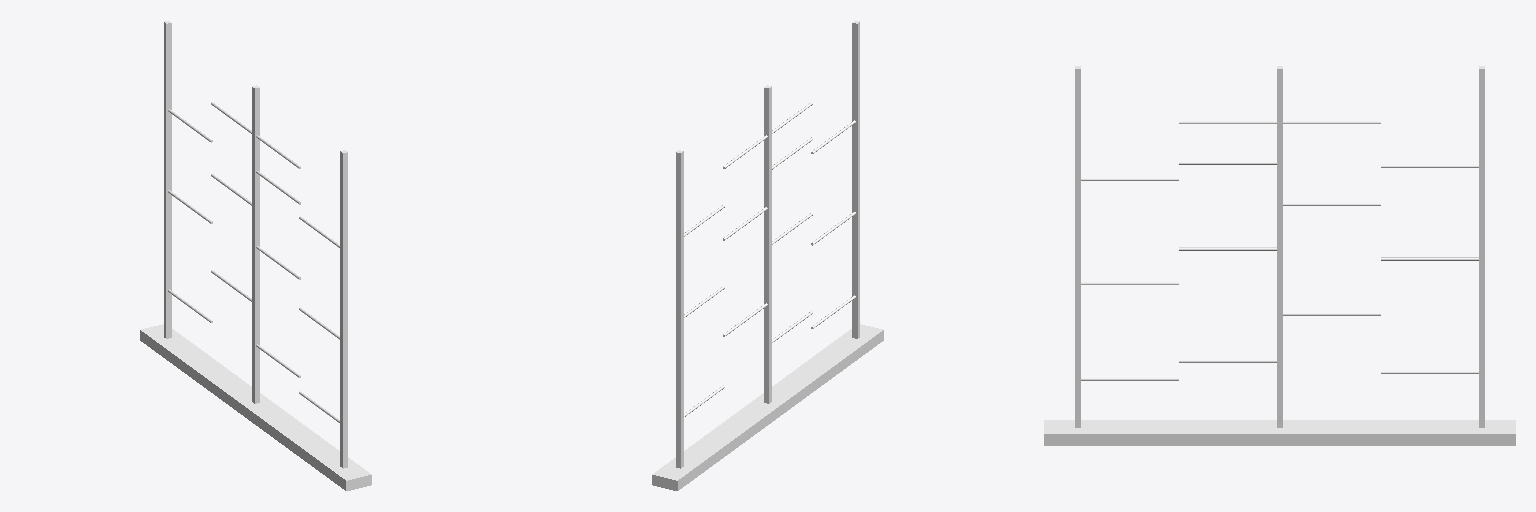
URDF robot description (test_tree):
<?xml version="1.0" ?>
<robot name="test_tree">
<!--  <link concave="yes" name="baseLink">-->
  <link concave="no" name="baseLink">
    <inertial>
      <origin rpy="0 0 0" xyz="0 0 0"/>
       <mass value=".0"/>
       <inertia ixx="0" ixy="0" ixz="0" iyy="0" iyz="0" izz="0"/>
    </inertial>
    <visual>
      <origin rpy="0 0 0" xyz="0 0 0"/>
      <geometry>
				<mesh filename="trellis-model.obj" scale="1 1 1"/>
      </geometry>
       <material name="white">
        <color rgba="1 1 1 1"/>
      </material>
    </visual>
    <collision concave="no">
<!--    <collision concave="yes">-->
      <origin rpy="0 0 0" xyz="0 0 0"/>
     <geometry>
				<mesh filename="trellis-model.obj" scale="1 1 1"/>
      </geometry>
    </collision>
  </link>
</robot>

--- Render facts (derived) ---
3 views of the same robot in one strip: view 1: azimuth 30°, elevation 25°; view 2: azimuth 150°, elevation 25°; view 3: azimuth 270°, elevation 25° (orthographic).
Robot: test_tree — 1 links, 0 joints (none); root link baseLink; default pose: every joint at zero.
Visible links, largest first — view 1: baseLink; view 2: baseLink; view 3: baseLink.
Link boxes in pixels (box(x1,y1,x2,y2)): baseLink: box(140, 21, 371, 490); baseLink: box(652, 21, 883, 490); baseLink: box(1044, 66, 1515, 445).
Size in the robot's own frame: 0.1 by 1.4 by 1.22 metres.
Meshes: 1 distinct files referenced, 1 mesh visuals loaded (1 OBJ).